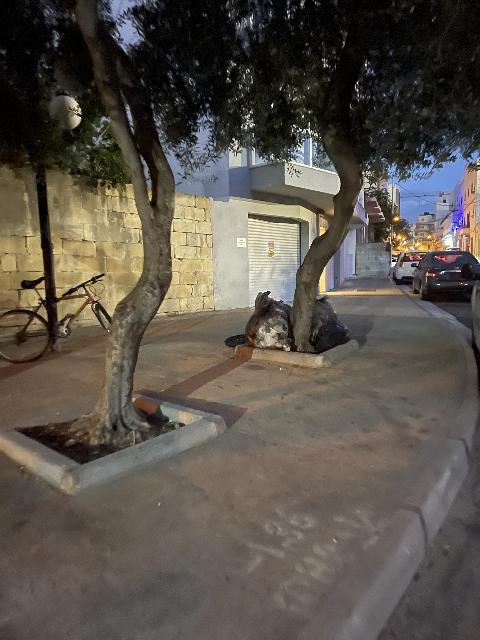Mixed -Black-: (314, 321, 350, 354)
Recyclable -Grey-: (245, 291, 292, 351), (310, 296, 338, 347)
